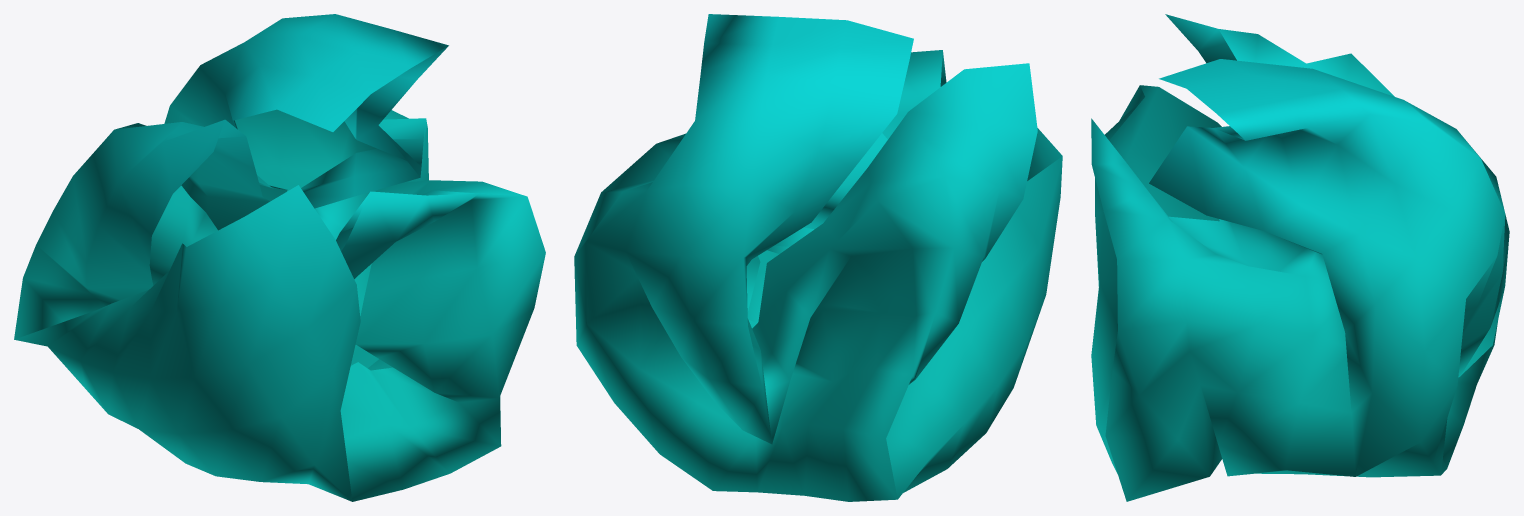
File: CrumpledNapkin001.glb
3 views of the same model, side by side, from view 1: azimuth 30°, elevation 25°; view 2: azimuth 150°, elevation 25°; view 3: azimuth 270°, elevation 25° (orthographic). The views are drawn at different scales.
Visible parts, largest first — view 1: CrumpledNapkin001; view 2: CrumpledNapkin001; view 3: CrumpledNapkin001.
Boxes of the visible parts, bbox=[...] form: CrumpledNapkin001: bbox=[14, 14, 545, 501]; CrumpledNapkin001: bbox=[574, 14, 1062, 501]; CrumpledNapkin001: bbox=[1091, 14, 1509, 501].
Bounding box in the file's own units: 0.392 × 0.392 × 0.392.
